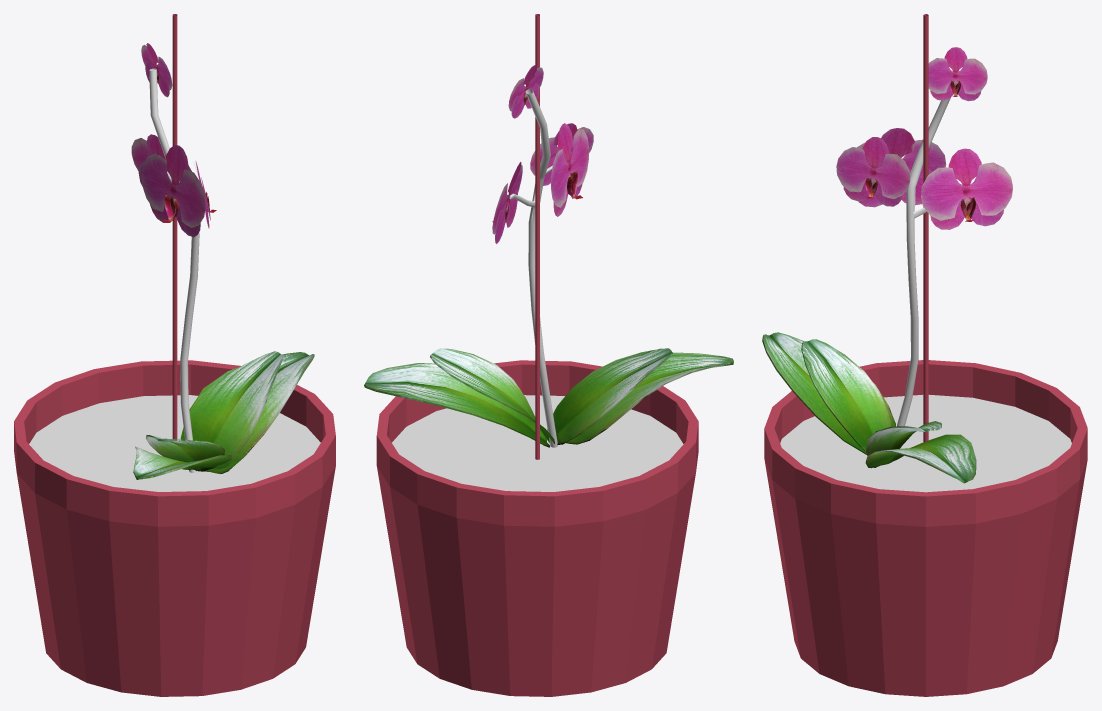
File: Orhidee.fbx
3 renders of one model, left to right at view 1: azimuth 30°, elevation 25°; view 2: azimuth 150°, elevation 25°; view 3: azimuth 270°, elevation 25°, orthographic.
Visible parts, largest first — view 1: Cylinder, Plane, Vert.006, Vert.003, Plane.001, Vert.004, Plane.002, Plane.003, Vert.005, Vert.007; view 2: Cylinder, Plane.001, Plane.002, Plane, Plane.003, Vert.003, Vert.006, Vert.004, Vert.007, Vert.005, Vert.001; view 3: Cylinder, Vert.007, Plane.002, Vert.001, Plane.003, Vert.003, Plane.001, Vert.005, Vert.004, Vert.006, Plane.
Part boxes in pixels (x1=…): Cylinder: x1=14, y1=360, x2=335, y2=696; Plane: x1=180, y1=351, x2=283, y2=471; Vert.006: x1=141, y1=145, x2=205, y2=237; Vert.003: x1=149, y1=68, x2=199, y2=472; Plane.001: x1=189, y1=352, x2=314, y2=473; Vert.004: x1=172, y1=14, x2=177, y2=439; Plane.002: x1=145, y1=435, x2=224, y2=471; Plane.003: x1=133, y1=446, x2=231, y2=479; Vert.005: x1=141, y1=43, x2=172, y2=97; Vert.007: x1=131, y1=134, x2=191, y2=185; Cylinder: x1=376, y1=360, x2=698, y2=696; Plane.001: x1=364, y1=363, x2=549, y2=447; Plane.002: x1=547, y1=348, x2=672, y2=444; Plane: x1=430, y1=348, x2=554, y2=443; Plane.003: x1=556, y1=352, x2=733, y2=444; Vert.003: x1=509, y1=89, x2=557, y2=447; Vert.006: x1=551, y1=123, x2=588, y2=216; Vert.004: x1=535, y1=14, x2=539, y2=459; Vert.007: x1=492, y1=162, x2=522, y2=243; Vert.005: x1=508, y1=65, x2=543, y2=118; Vert.001: x1=530, y1=123, x2=593, y2=185; Cylinder: x1=764, y1=360, x2=1087, y2=696; Vert.007: x1=921, y1=148, x2=1012, y2=229; Plane.002: x1=801, y1=339, x2=891, y2=452; Vert.001: x1=836, y1=137, x2=910, y2=206; Plane.003: x1=762, y1=332, x2=895, y2=454; Vert.003: x1=897, y1=98, x2=950, y2=426; Plane.001: x1=865, y1=434, x2=976, y2=483; Vert.005: x1=928, y1=47, x2=987, y2=101; Vert.004: x1=923, y1=14, x2=928, y2=442; Vert.006: x1=856, y1=128, x2=946, y2=207; Plane: x1=866, y1=421, x2=941, y2=467.
Size of the model in its own units: 258 by 525 by 247.
